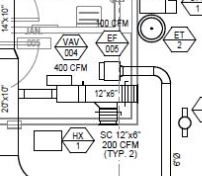VAV: (39, 70, 90, 102)
